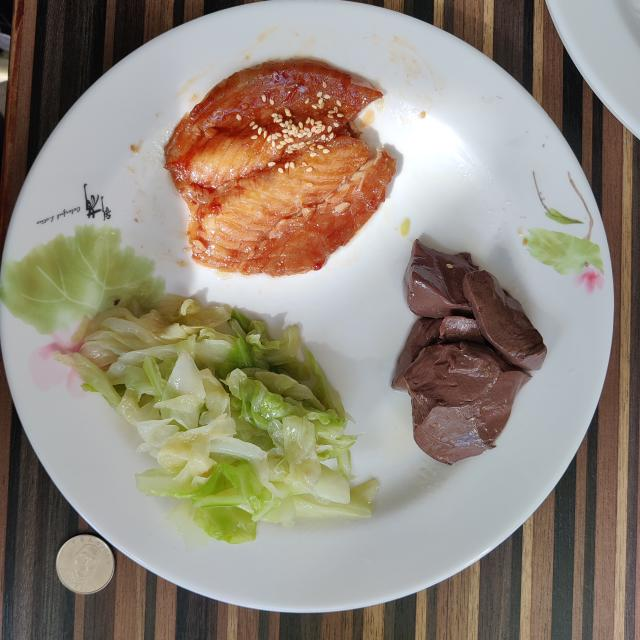Kabayaki sea bream fillet: (165, 59, 395, 276)
cabbage: (55, 295, 379, 549)
coin: (56, 535, 115, 594)
pig blood curd: (391, 240, 546, 464)
